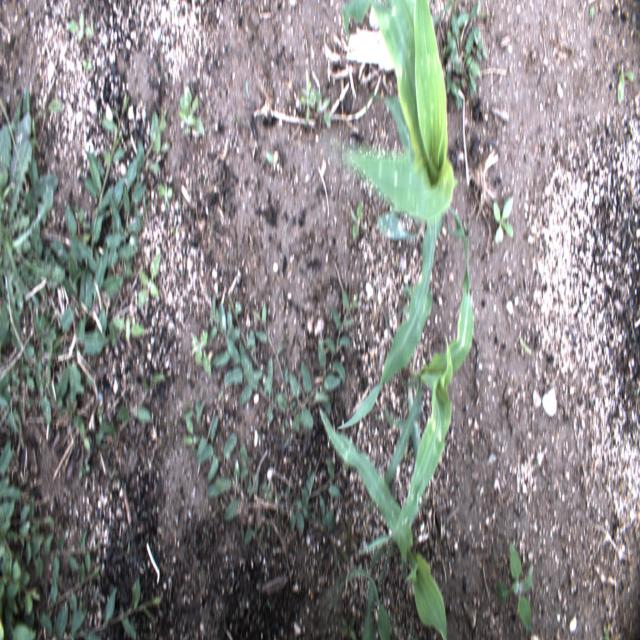crop: (338, 1, 456, 430), (381, 204, 474, 539), (317, 405, 448, 638), (342, 566, 392, 639)
weed: (1, 90, 167, 440), (209, 290, 360, 432), (182, 405, 345, 536), (0, 86, 71, 354), (0, 439, 91, 605), (39, 573, 164, 639), (74, 373, 166, 456), (444, 0, 486, 110), (0, 546, 42, 640), (496, 538, 534, 637), (135, 255, 162, 313), (178, 84, 205, 139), (492, 196, 514, 246), (114, 313, 148, 344), (190, 328, 211, 378), (65, 12, 96, 43), (300, 79, 316, 130), (314, 90, 331, 130), (157, 184, 174, 207)
